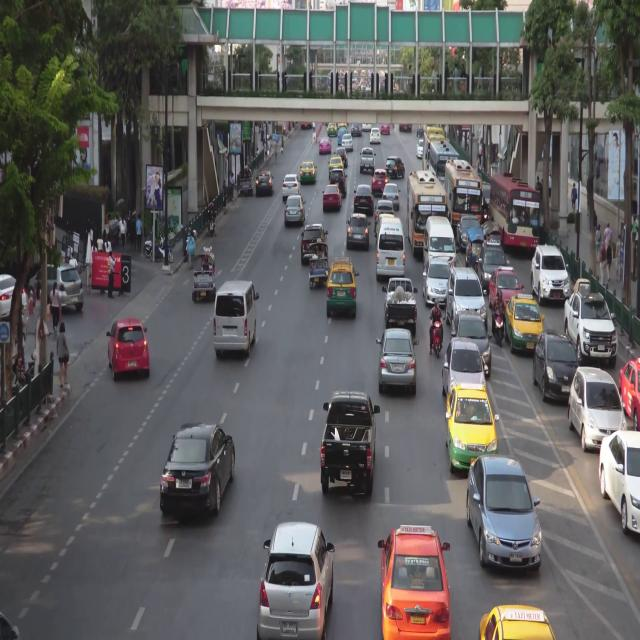bus: (491, 175, 541, 254), (408, 171, 448, 259), (444, 161, 483, 237), (430, 143, 459, 200), (424, 132, 447, 184)
car: (467, 456, 542, 573), (261, 525, 333, 640), (164, 422, 235, 516), (323, 388, 374, 501), (569, 366, 625, 455), (600, 429, 640, 539), (566, 282, 618, 366), (534, 328, 582, 400), (215, 281, 257, 355), (444, 341, 487, 411), (108, 320, 151, 383), (447, 268, 488, 334), (453, 314, 492, 378), (379, 329, 417, 393), (36, 263, 84, 313), (531, 242, 568, 306), (425, 218, 456, 279), (385, 278, 417, 331), (377, 219, 405, 279), (424, 261, 455, 306), (478, 246, 506, 295), (0, 271, 27, 320), (193, 254, 215, 302), (309, 243, 328, 290), (302, 223, 326, 260), (458, 216, 482, 249), (348, 213, 369, 248), (466, 228, 482, 273), (483, 217, 500, 253), (354, 185, 374, 215), (285, 197, 305, 224), (323, 184, 341, 211), (283, 173, 302, 198), (376, 200, 394, 226), (330, 170, 347, 197), (386, 158, 406, 179), (256, 172, 274, 195), (384, 183, 399, 209), (361, 147, 375, 173), (240, 169, 253, 194), (373, 170, 387, 192), (336, 148, 348, 166), (370, 127, 381, 143), (343, 134, 353, 151), (350, 123, 361, 137), (338, 129, 348, 144), (418, 140, 424, 158), (381, 124, 390, 135), (363, 123, 371, 132)
pedestrian: (57, 322, 69, 388), (50, 284, 59, 334), (188, 233, 196, 270), (108, 251, 114, 298), (600, 241, 606, 286), (35, 283, 42, 318), (120, 214, 127, 249), (137, 213, 143, 252), (595, 222, 601, 261), (21, 306, 27, 344), (606, 238, 611, 282), (571, 181, 577, 214), (616, 233, 620, 280), (605, 222, 611, 251), (105, 234, 112, 253), (70, 253, 77, 270), (230, 172, 234, 201), (97, 235, 103, 253), (223, 179, 227, 205), (536, 175, 540, 193), (264, 140, 267, 161), (92, 241, 97, 253), (281, 135, 284, 155), (268, 138, 271, 156), (549, 173, 551, 200), (275, 141, 277, 163)
taxi: (380, 526, 451, 639), (447, 385, 498, 473), (479, 604, 556, 640), (506, 296, 544, 356), (326, 260, 356, 323), (489, 267, 523, 317), (619, 354, 640, 431), (300, 161, 316, 184), (329, 157, 344, 176), (320, 137, 332, 153), (327, 123, 337, 136), (338, 122, 346, 129)
